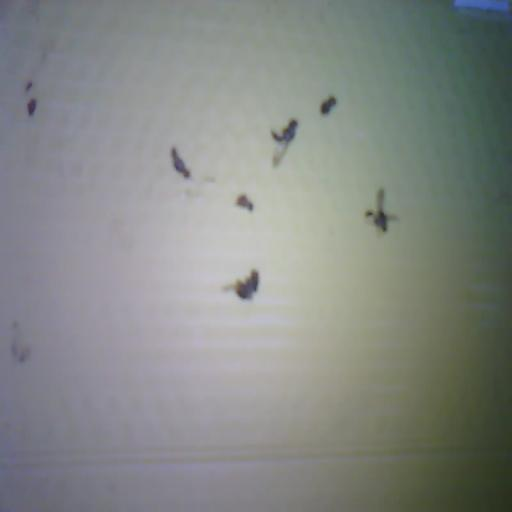Insects: (365, 188, 397, 232), (223, 269, 259, 299), (271, 119, 298, 143), (170, 148, 189, 177)
dust: (10, 321, 30, 363), (321, 96, 337, 114), (236, 195, 253, 211), (27, 98, 36, 115), (25, 81, 32, 90)
